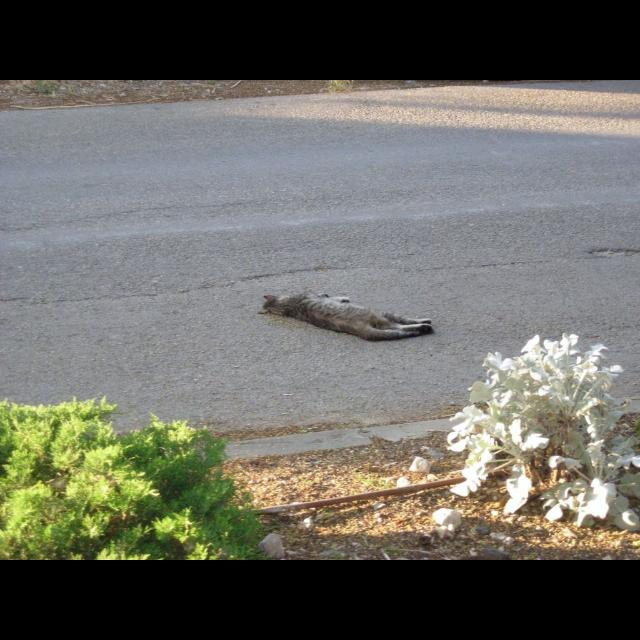Flower: (451, 405, 492, 435)
